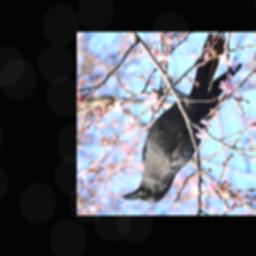Crow: (121, 35, 243, 205)
